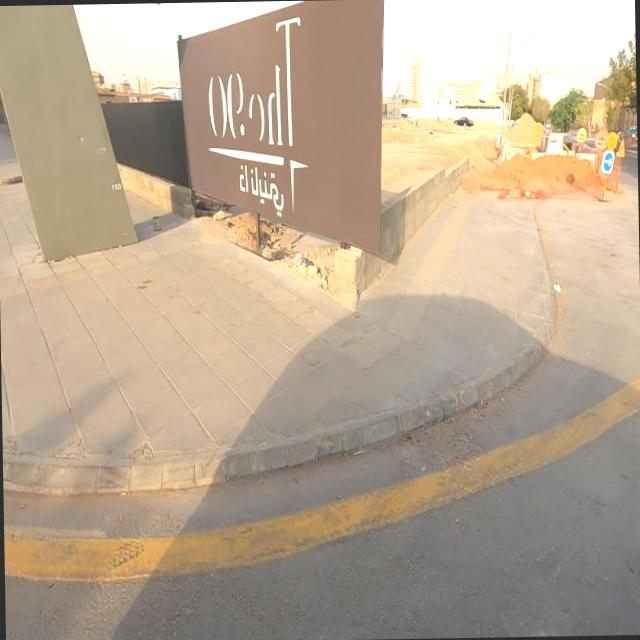debris: (592, 109, 630, 168), (538, 262, 576, 319), (564, 106, 598, 158), (586, 115, 616, 157), (610, 126, 631, 175)
